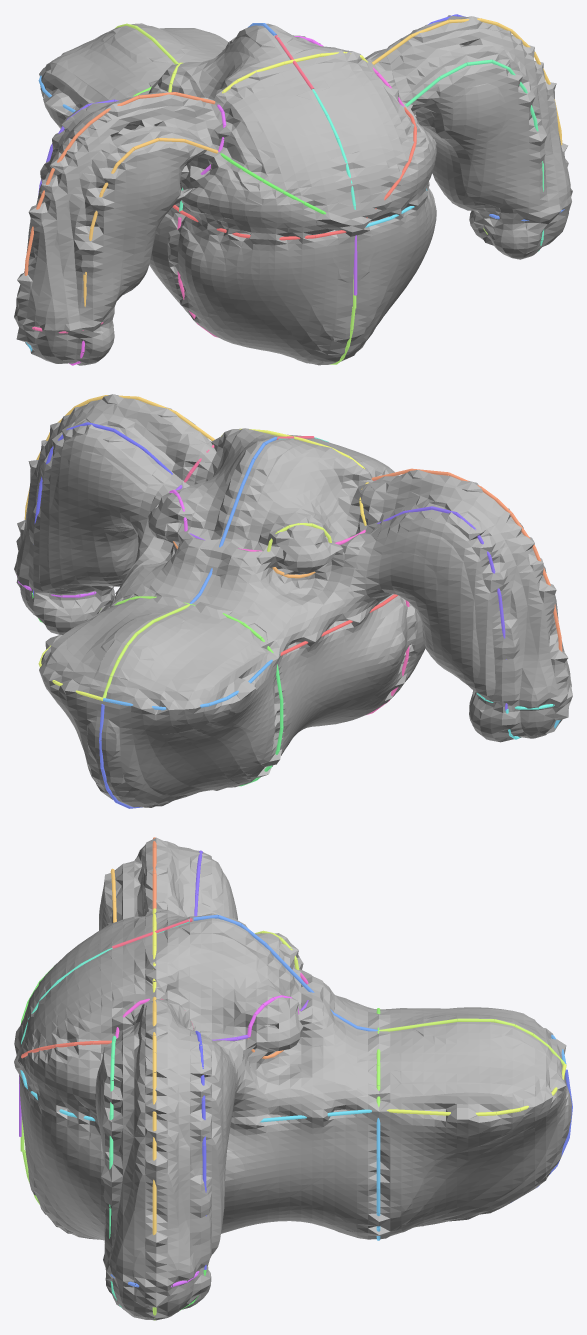
Rendered from scaffolds3d_dog.gltf.
3 renders of one model, top to bottom at view 1: azimuth 30°, elevation 25°; view 2: azimuth 150°, elevation 25°; view 3: azimuth 270°, elevation 25°, orthographic. The views are drawn at different scales.
Bounding box in the file's own units: 0.7349 × 0.3768 × 0.5962.
